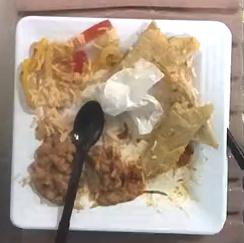beans: (74, 146, 145, 209), (28, 134, 75, 205)
peppers: (21, 23, 122, 103)
pork: (124, 22, 216, 178)
